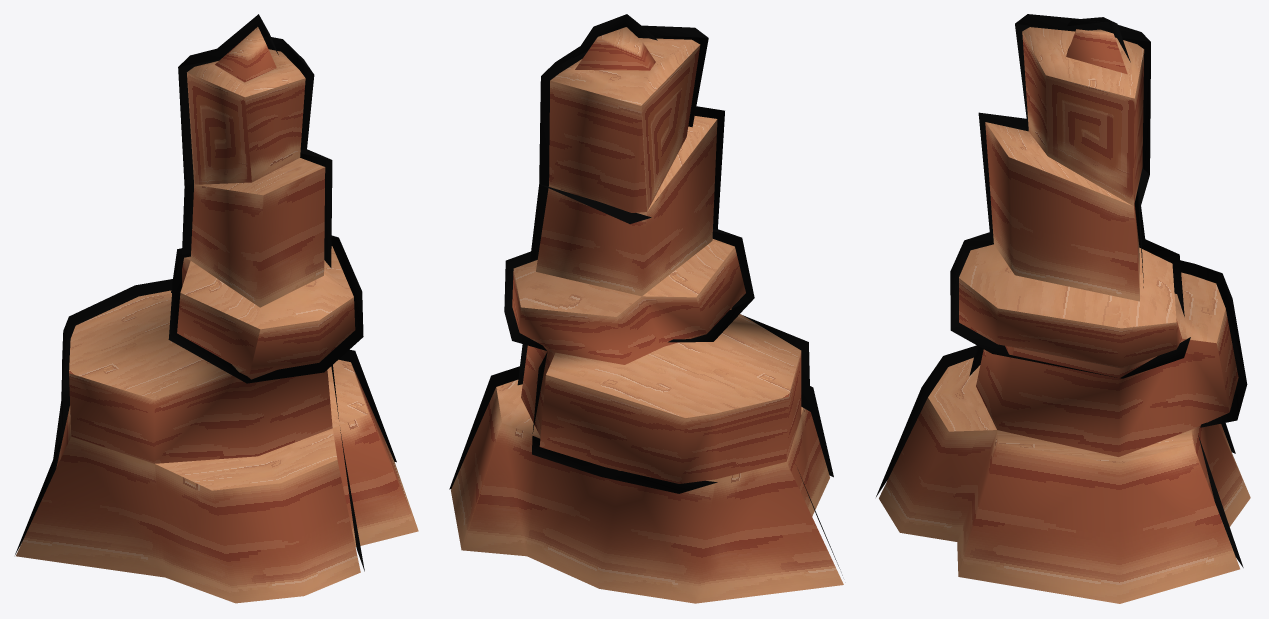
The model's file is rock_medium_1.glb.
The picture shows the model from 3 angles, left to right: view 1: azimuth 30°, elevation 25°; view 2: azimuth 150°, elevation 25°; view 3: azimuth 270°, elevation 25°; orthographic projection. The views are drawn at different scales.
Visible parts, largest first — view 1: rock_formation1_Cube.002, rock_formation1_outline.002; view 2: rock_formation1_Cube.002, rock_formation1_outline.002; view 3: rock_formation1_Cube.002, rock_formation1_outline.002.
Boxes of the visible parts, x1,y1,x2,y2 form: rock_formation1_Cube.002: (16, 27, 418, 603); rock_formation1_outline.002: (15, 14, 396, 571); rock_formation1_Cube.002: (451, 27, 843, 603); rock_formation1_outline.002: (449, 14, 842, 575); rock_formation1_Cube.002: (879, 27, 1250, 603); rock_formation1_outline.002: (876, 14, 1247, 567).
Size of the model in its own units: 3.93 by 4.72 by 3.18.
2 materials, 1 textured.
